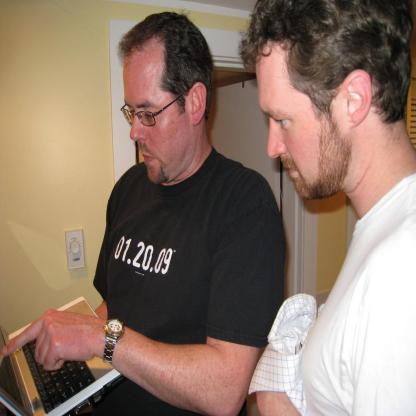board: (6, 300, 123, 416)
